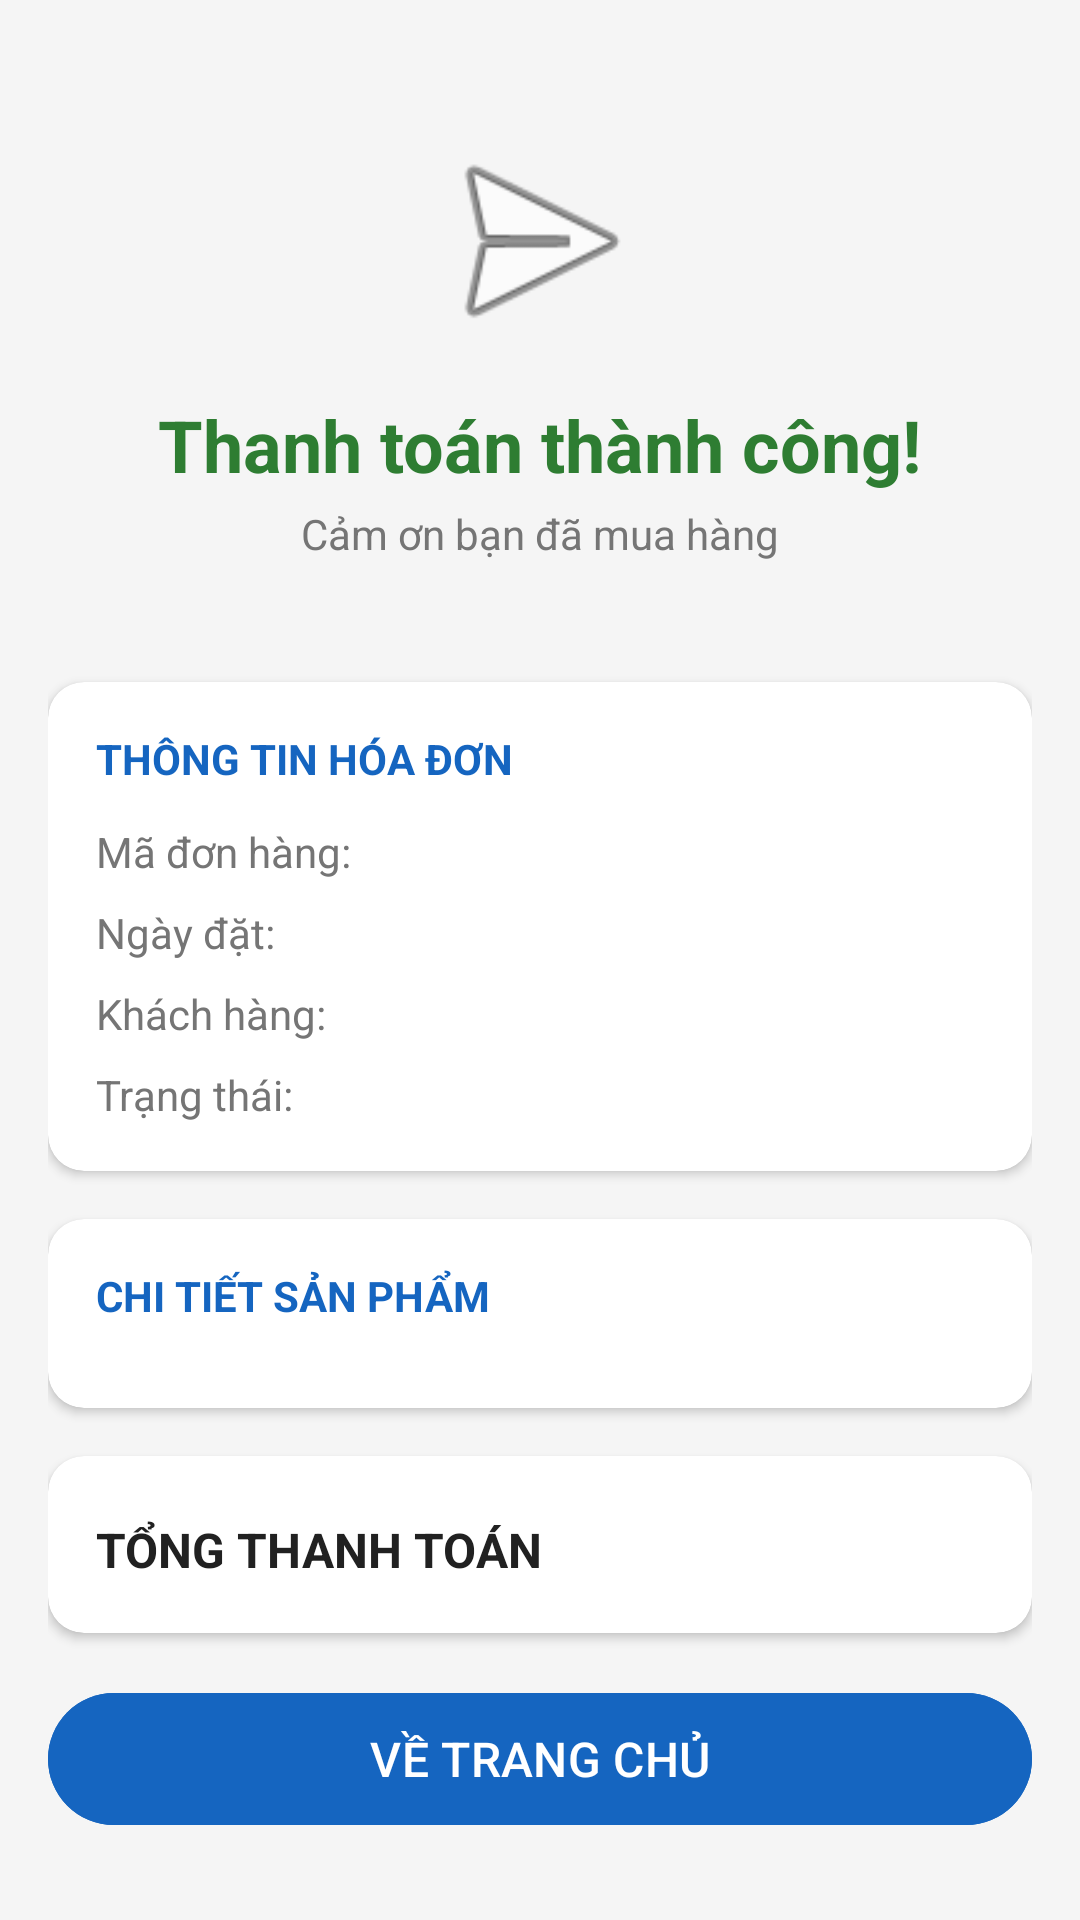

Named icons in this screenshot (1080px x 1920px) and their centers, (x,y):
send: (542,241)
